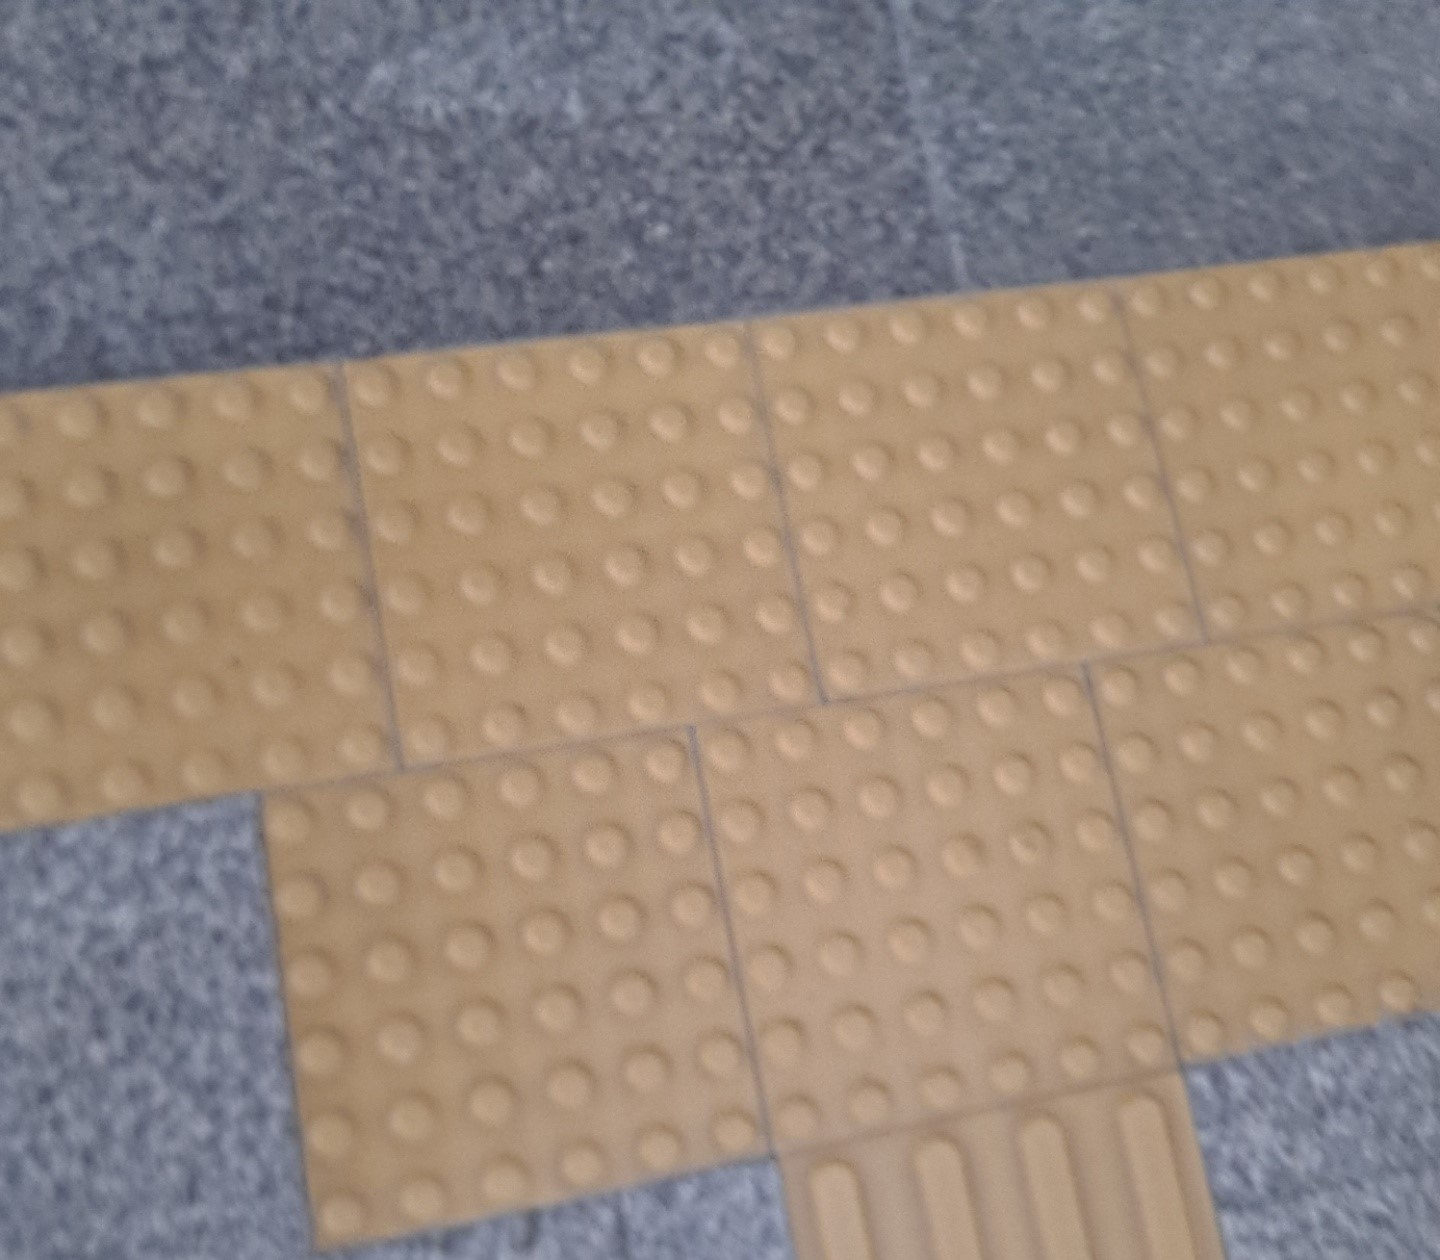warningBlock: (290, 767, 730, 1176), (730, 686, 1127, 1073), (362, 362, 798, 714), (762, 318, 1176, 654), (1118, 602, 1440, 1019), (9, 394, 373, 758), (1180, 262, 1440, 598)
